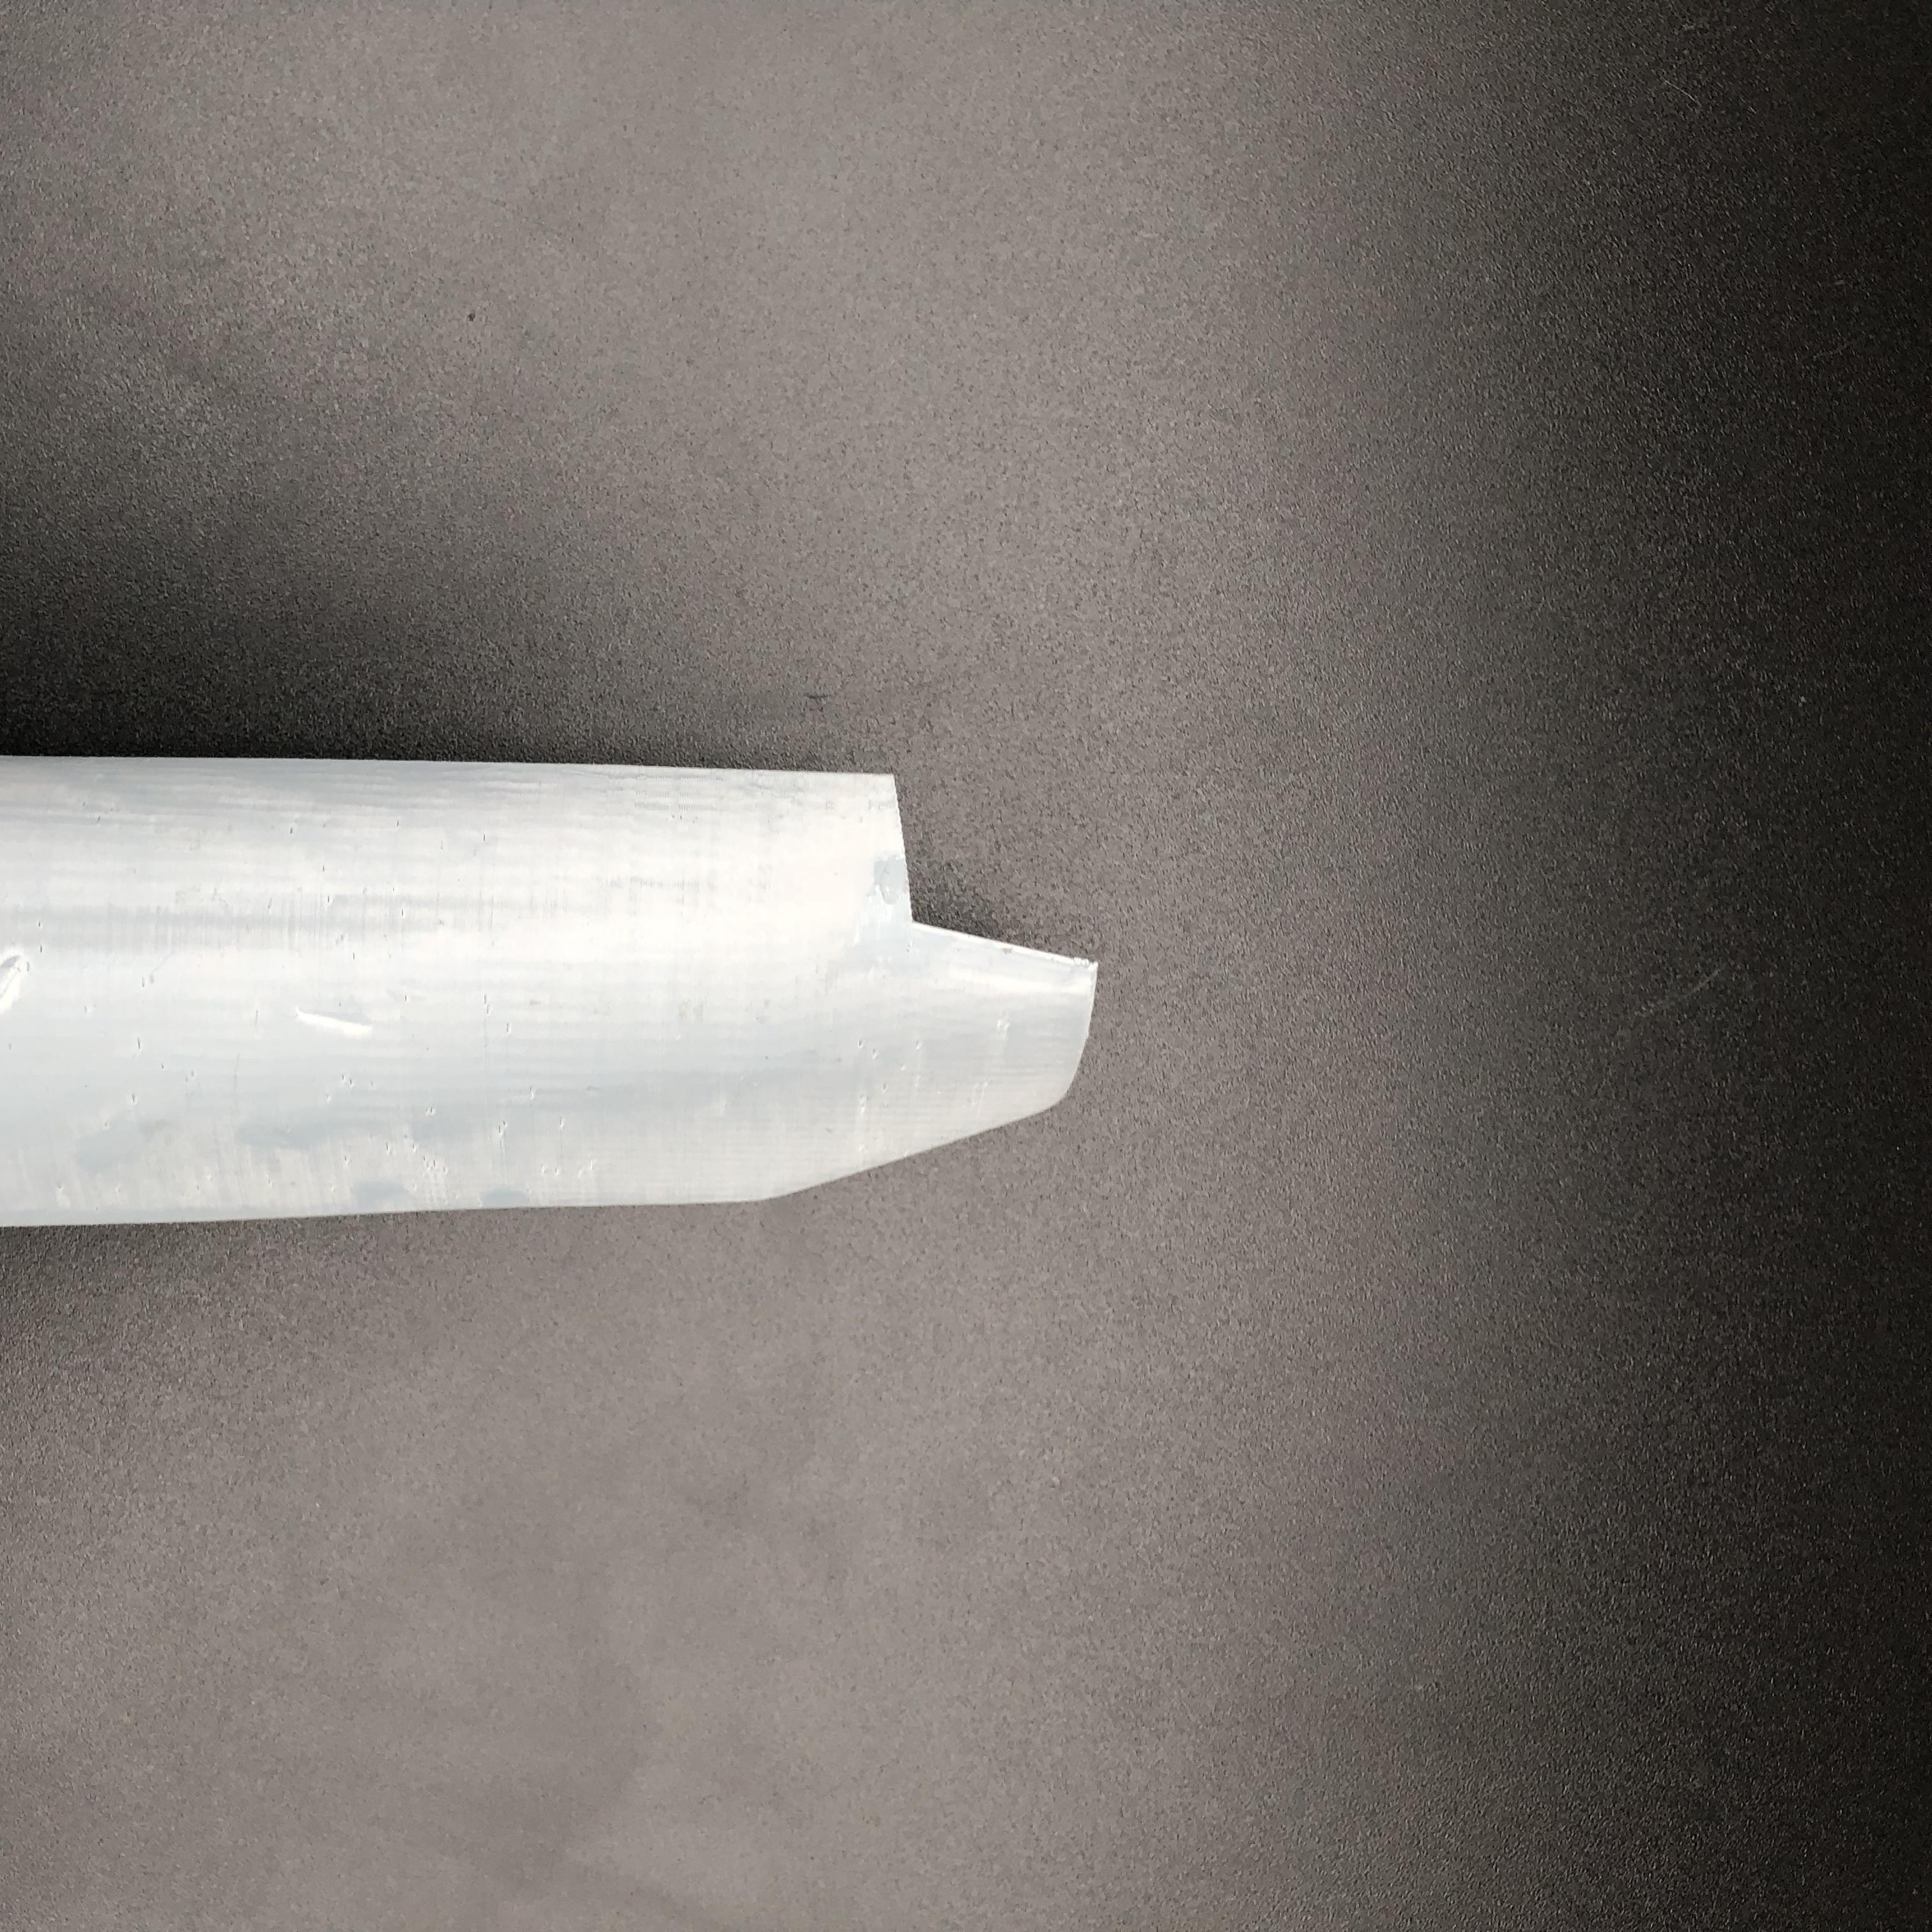fracture: (849, 786, 1085, 987)
